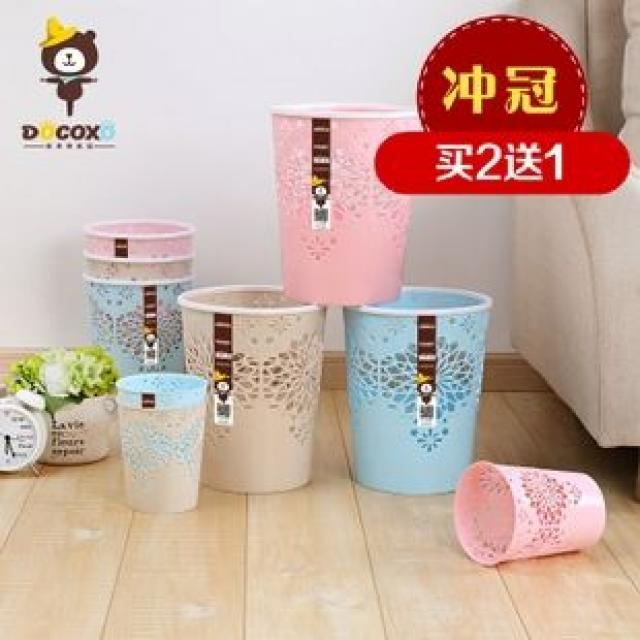Dustbin: (267, 96, 430, 307), (342, 284, 496, 498), (178, 281, 329, 497), (83, 217, 200, 384), (450, 457, 608, 571), (112, 370, 209, 515)
